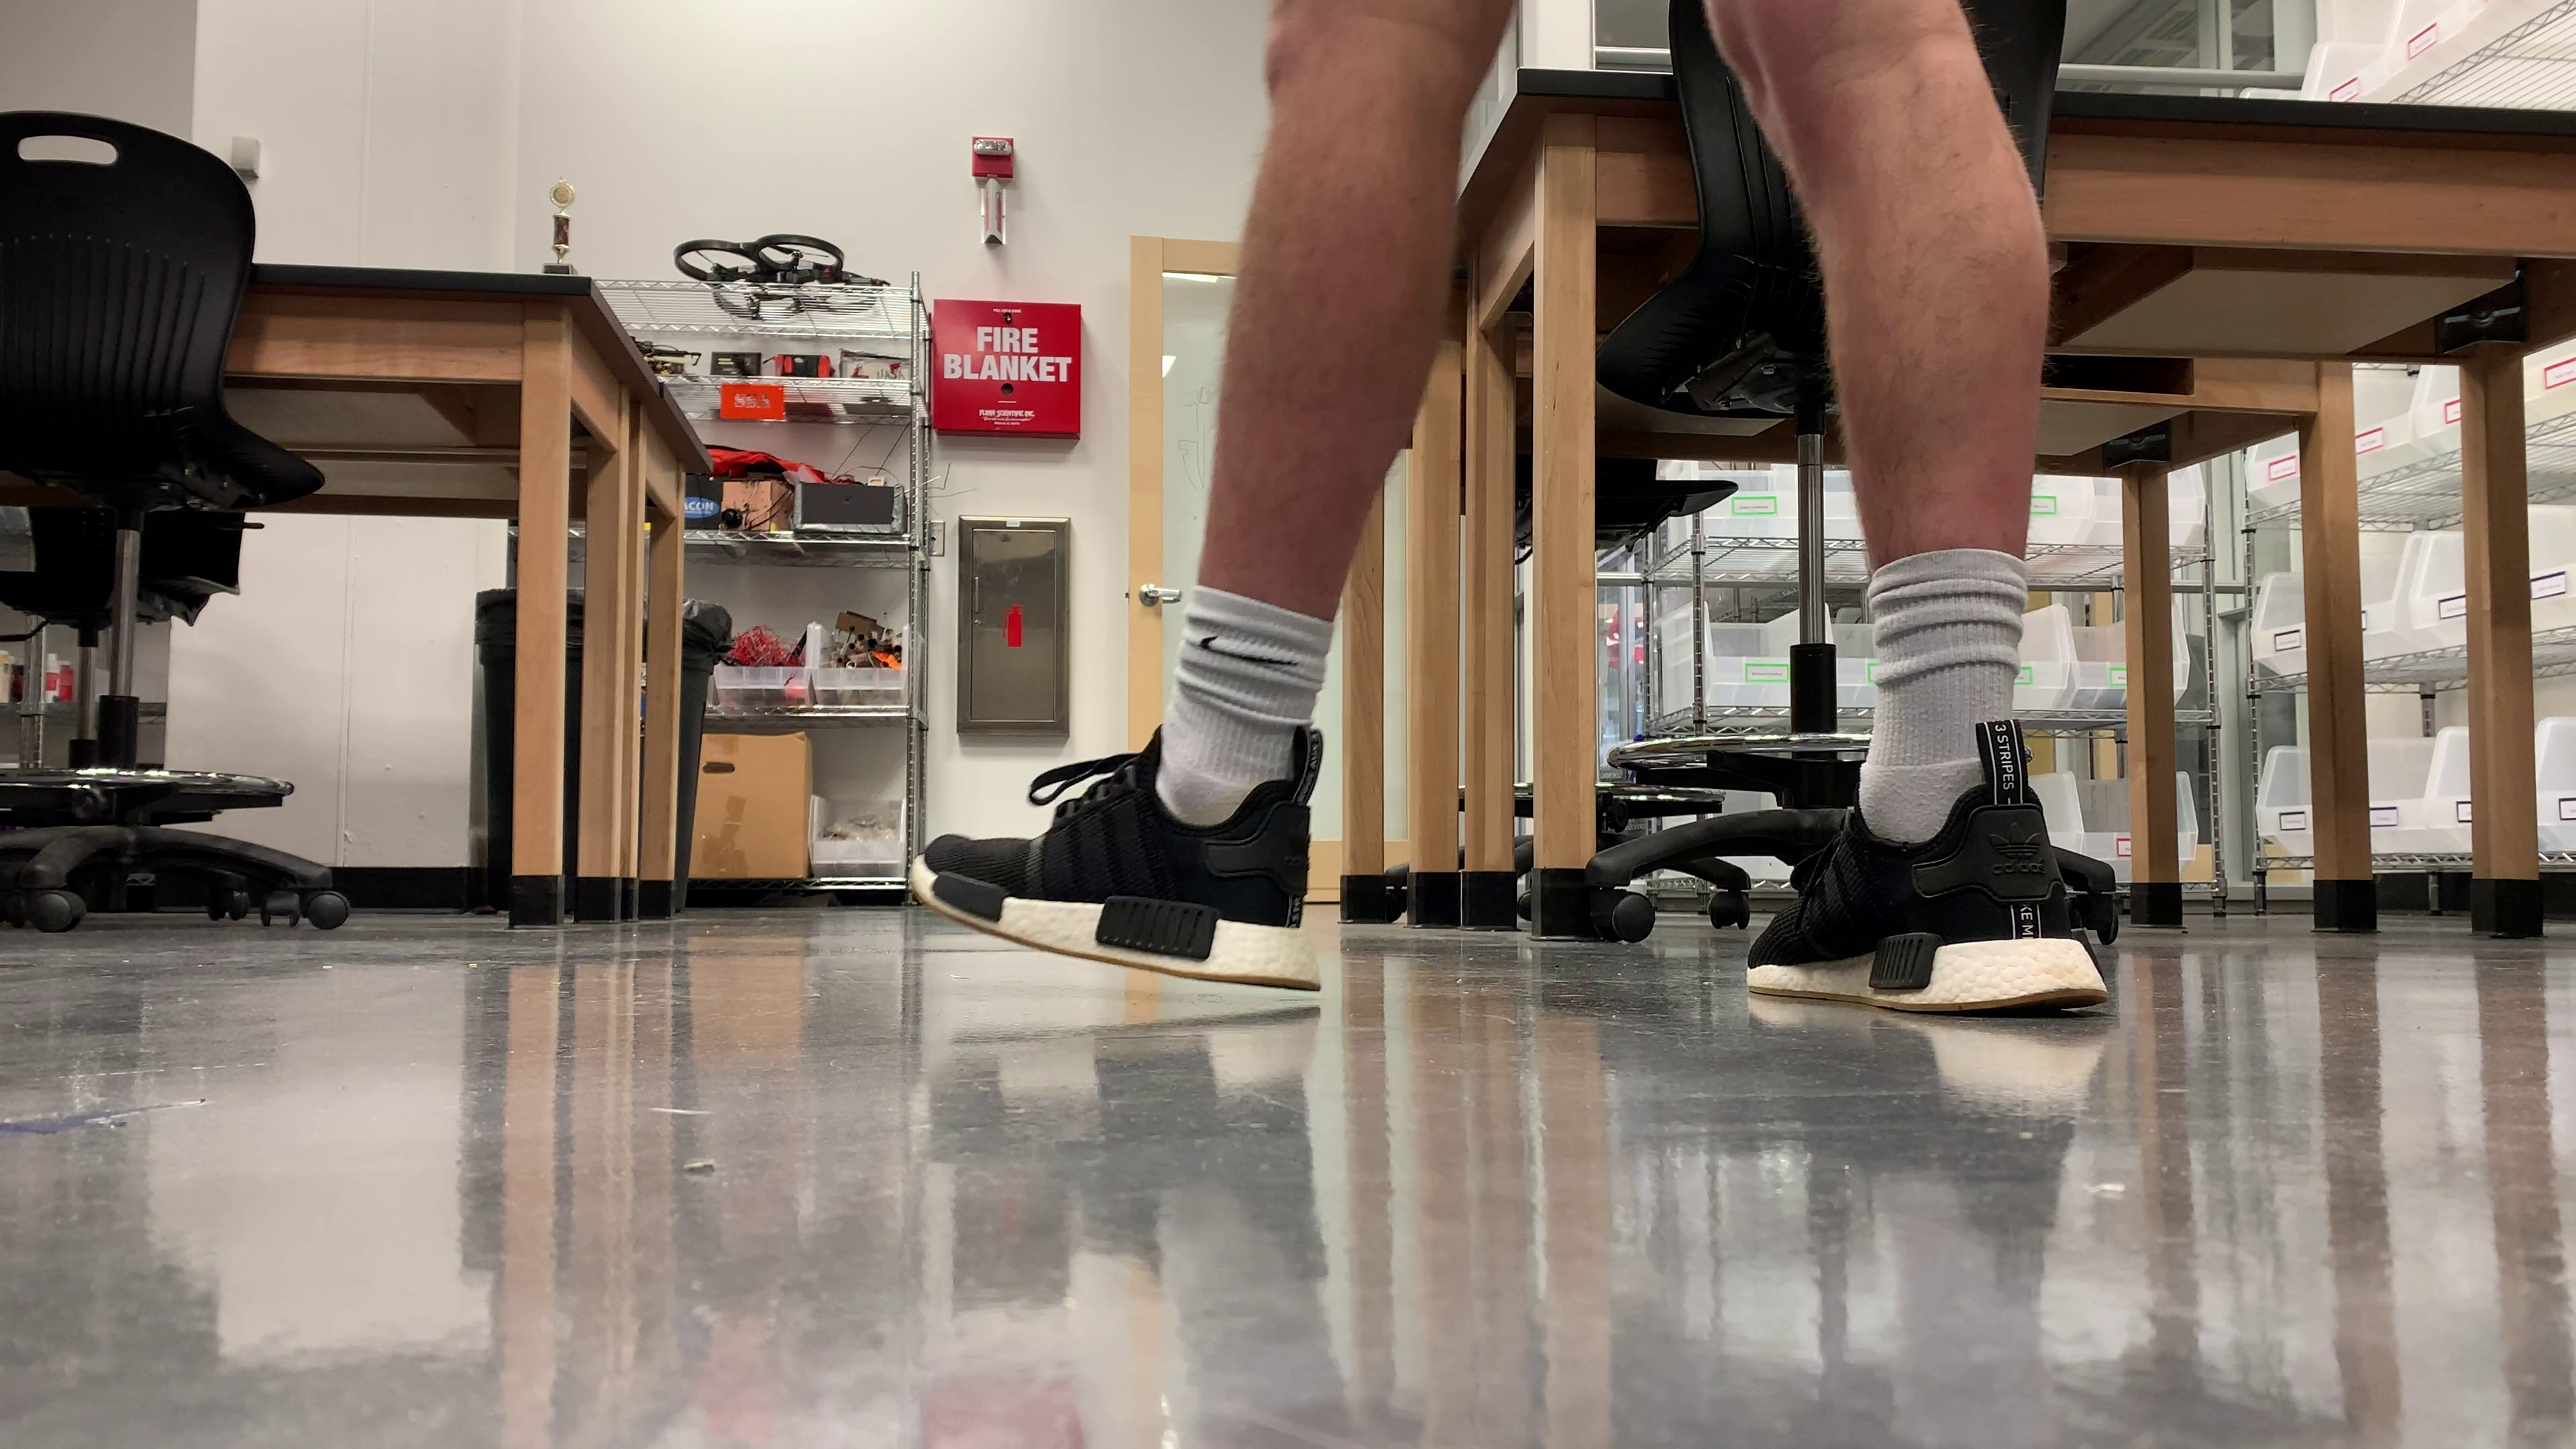shoe: (908, 727, 1318, 993), (1748, 784, 2107, 1016)
